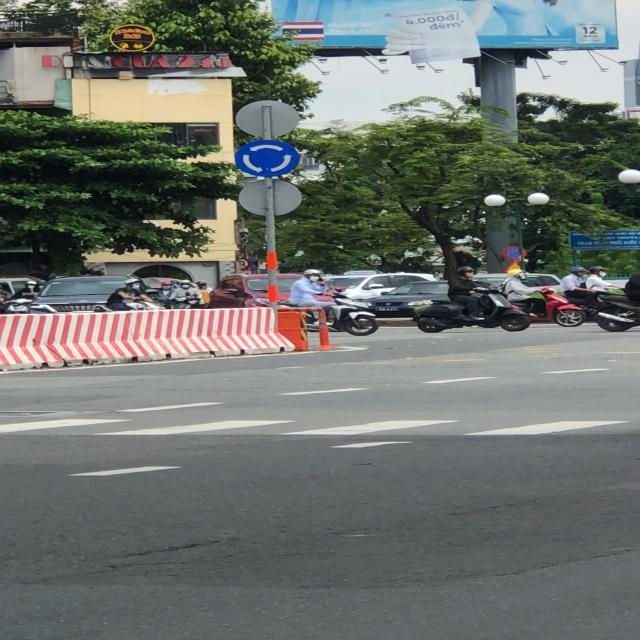Bien bao noi giao nhau chay theo vong xuyen: (236, 136, 306, 175)
